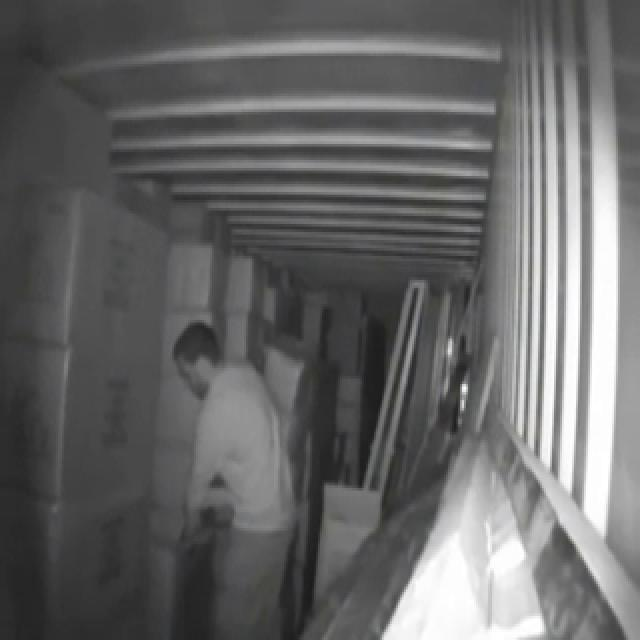burglary: (86, 227, 377, 640)
